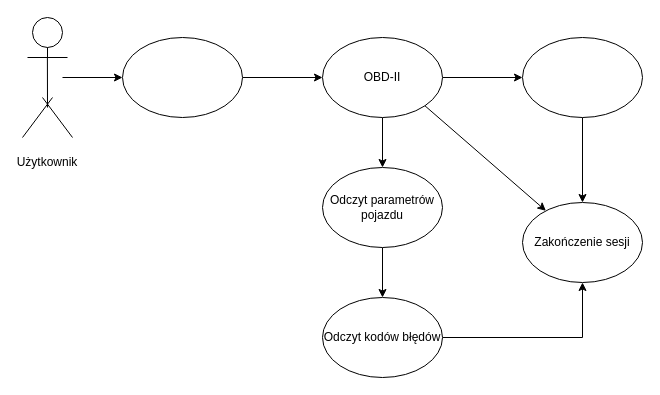
The diagram is 660 pixels wide and 395 high, and some of its shapes have lost their labels. Each missing label, with the centre of its shape:
"Eksport danych" belongs at (x=582, y=77).
"Rozpoczęcie sesji" belongs at (x=182, y=77).
